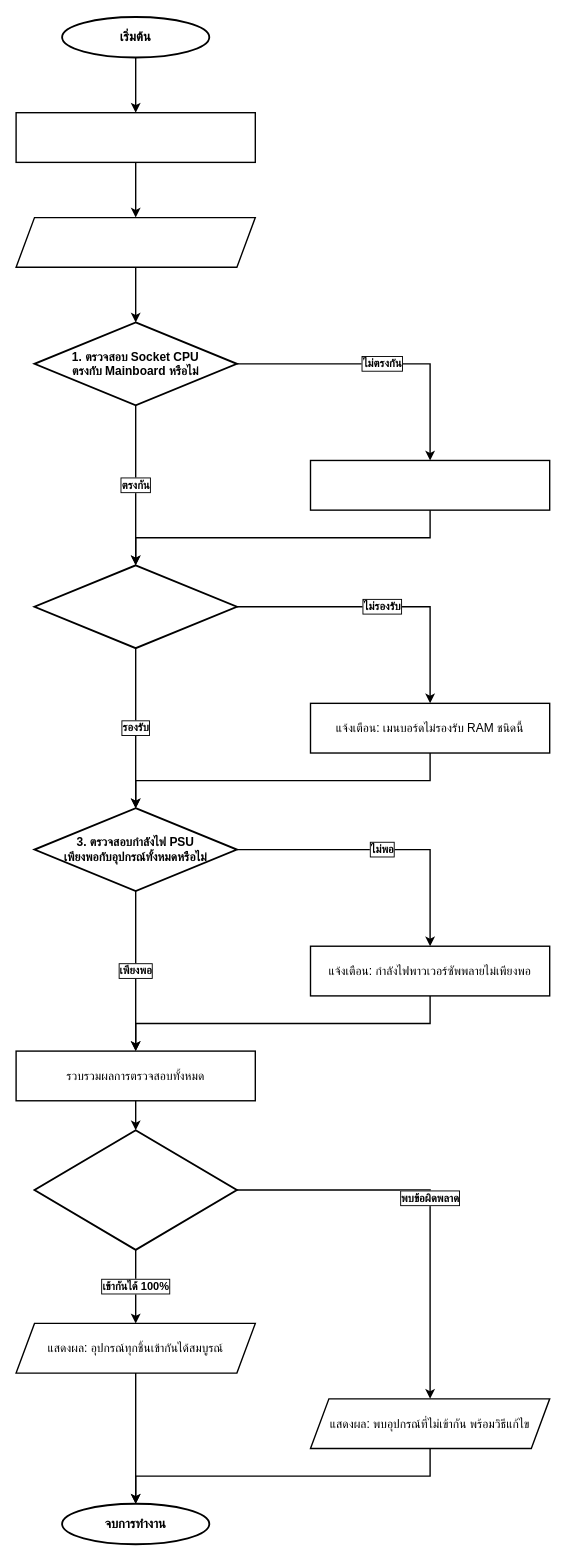
The diagram is 567 pixels wide and 1560 high, and some of its shapes have lost their labels. The centre of each missing label's shape, as x and y in pixels:
"2. ตรวจสอบประเภท RAM ตรงกับ Mainboard หรือไม่" belongs at (x=135, y=606).
"ตรวจจับการเลือกอุปกรณ์ในรายการจัดสเปค" belongs at (x=135, y=137).
"พบข้อผิดพลาด ความไม่เข้ากันหรือไม่?" belongs at (x=135, y=1189).
"มีการเพิ่ม/ลบ/เปลี่ยนอุปกรณ์" belongs at (x=135, y=242).
"แจ้งเตือน: Socket CPU ไม่ตรงกับบอร์ด" belongs at (x=429, y=484).
